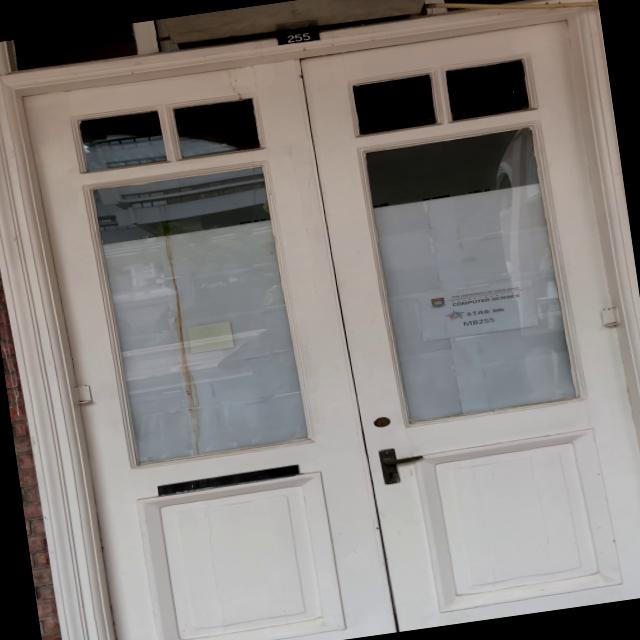room255: (276, 28, 321, 46)
